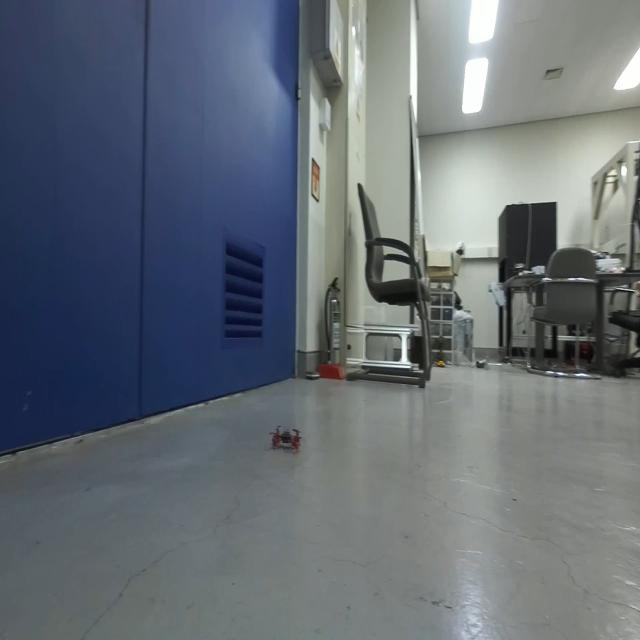crazyflie: (267, 418, 307, 457)
